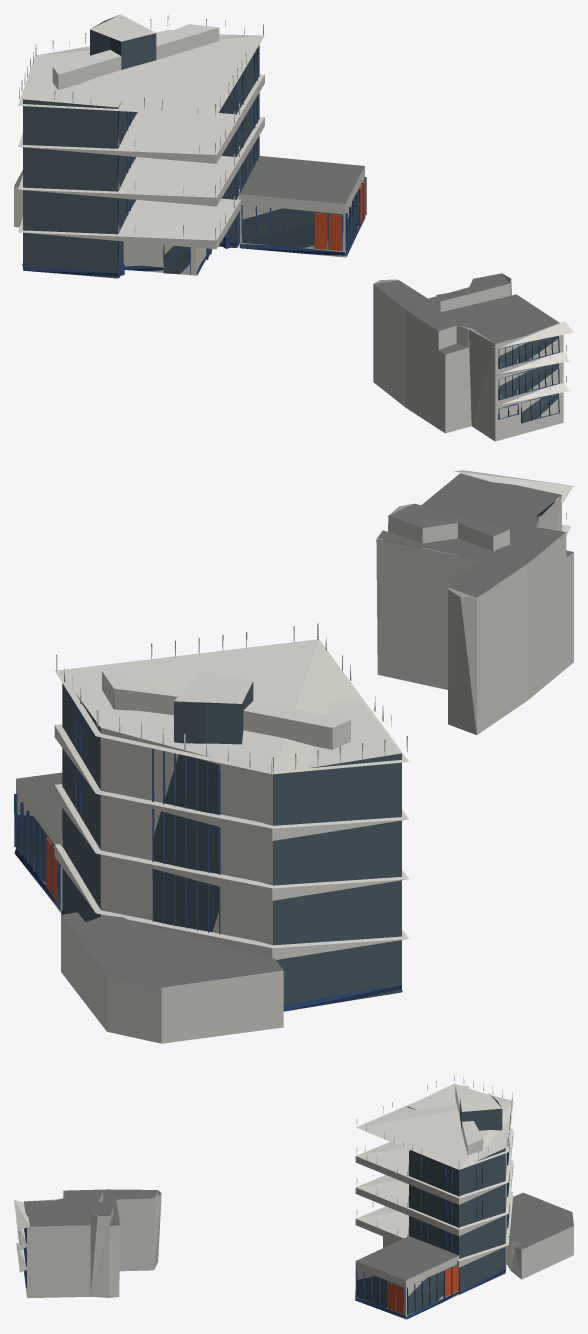
Rendered from eerste-openluchtschool.lod1.glb.
3 views of the same model, one above another, from view 1: azimuth 30°, elevation 25°; view 2: azimuth 150°, elevation 25°; view 3: azimuth 270°, elevation 25° (orthographic). The views are drawn at different scales.
Parts seen in each view (by area): view 1: eerste-openluchtschool; view 2: eerste-openluchtschool; view 3: eerste-openluchtschool.
Boxes of the visible parts, x1=… form: eerste-openluchtschool: x1=14, y1=14, x2=573, y2=441; eerste-openluchtschool: x1=14, y1=470, x2=573, y2=1043; eerste-openluchtschool: x1=14, y1=1075, x2=573, y2=1319.
Bounding box in the file's own units: 29.68 × 18.15 × 62.31.
